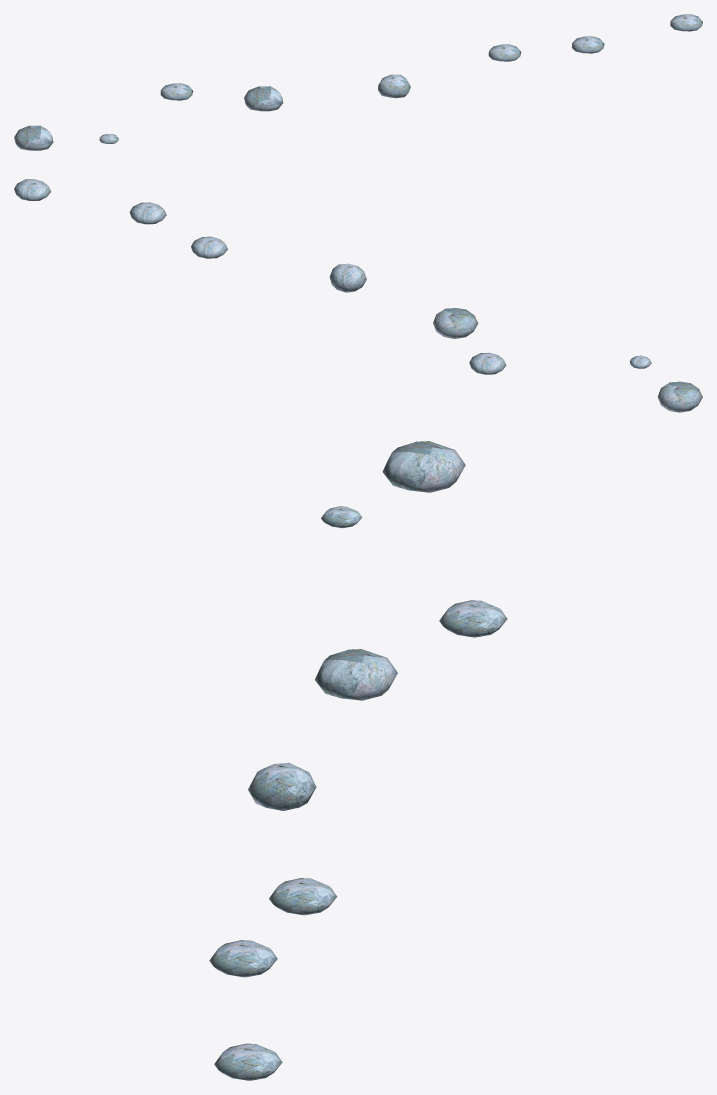
File: grey_stone.obj
3 renders of one model, top to bottom at view 1: azimuth 30°, elevation 25°; view 2: azimuth 150°, elevation 25°; view 3: azimuth 270°, elevation 25°, orthographic. The views are drawn at different scales.
Visible parts, largest first — view 1: Icosphere.019_Icosphere.021; view 2: Icosphere.019_Icosphere.021; view 3: Icosphere.019_Icosphere.021.
Part boxes in pixels (box(x1,y1,x2,y2)): Icosphere.019_Icosphere.021: box(14, 14, 702, 150); Icosphere.019_Icosphere.021: box(14, 179, 702, 412); Icosphere.019_Icosphere.021: box(209, 441, 507, 1080).
Bounding box in the file's own units: 55.81 × 1.77 × 11.26.
